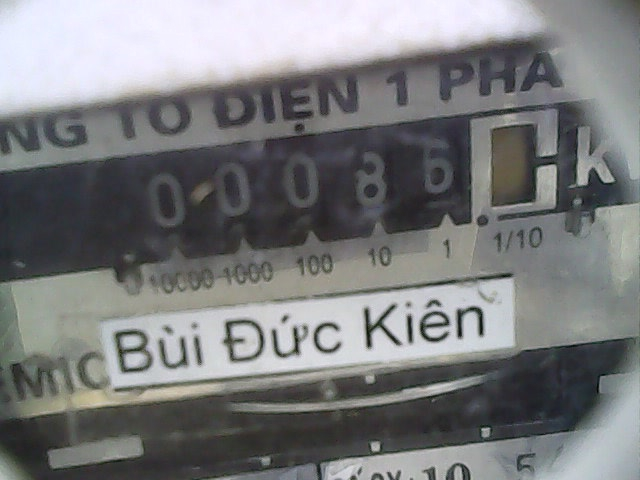phy_plate: (123, 108, 571, 229)
